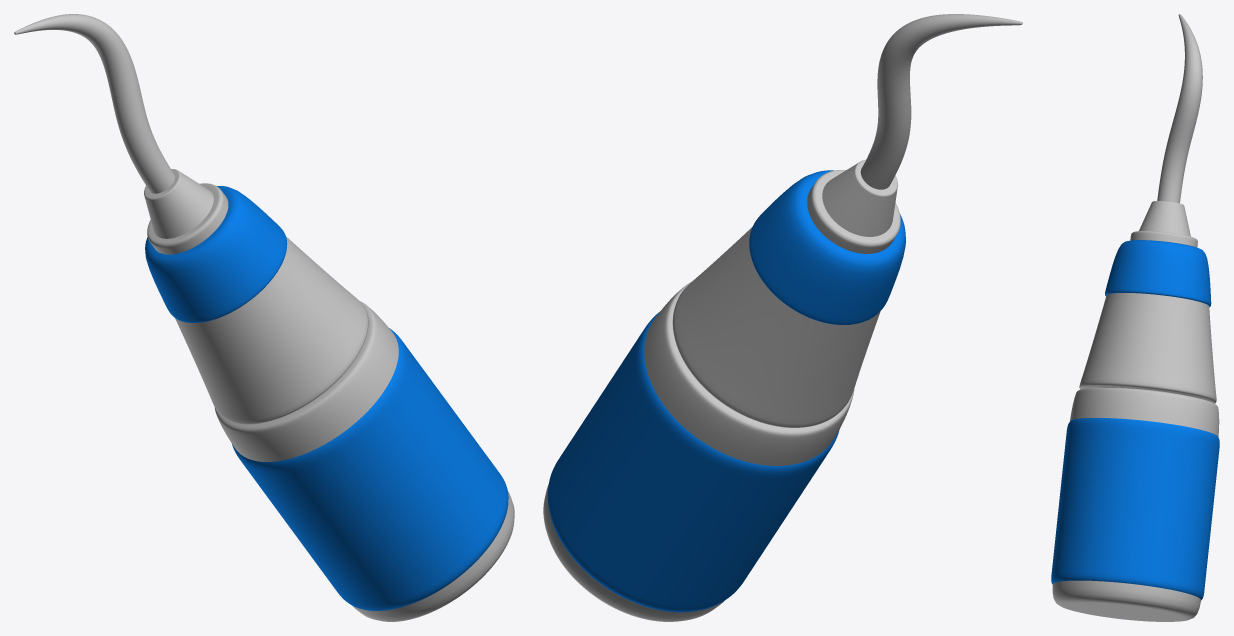
The model's file is Dental Scaler .glb.
The picture shows the model from 3 angles, left to right: view 1: azimuth 30°, elevation 25°; view 2: azimuth 150°, elevation 25°; view 3: azimuth 270°, elevation 25°; orthographic projection. The views are drawn at different scales.
Visible parts, largest first — view 1: Cylinder.015, Cylinder.012, Cylinder.016, NurbsPath.002, Cylinder.014, Cylinder.013; view 2: Cylinder.015, Cylinder.012, Cylinder.016, NurbsPath.002, Cylinder.014, Cylinder.013; view 3: Cylinder.015, Cylinder.012, Cylinder.016, NurbsPath.002, Cylinder.014, Cylinder.013.
Part boxes in pixels (x1,y1,x2,y2): Cylinder.015: (232, 328, 508, 610); Cylinder.012: (175, 236, 514, 621); Cylinder.016: (145, 186, 287, 322); NurbsPath.002: (14, 14, 175, 193); Cylinder.014: (144, 169, 213, 238); Cylinder.013: (147, 183, 228, 254); Cylinder.015: (547, 311, 839, 612); Cylinder.012: (543, 227, 880, 621); Cylinder.016: (749, 170, 905, 324); NurbsPath.002: (860, 14, 1022, 189); Cylinder.014: (822, 159, 897, 236); Cylinder.013: (807, 170, 900, 253); Cylinder.015: (1051, 418, 1219, 600); Cylinder.012: (1052, 293, 1219, 621); Cylinder.016: (1105, 240, 1211, 307); NurbsPath.002: (1157, 14, 1202, 203); Cylinder.014: (1139, 201, 1190, 236); Cylinder.013: (1130, 231, 1197, 247).
Bounding box in the file's own units: 4.2 × 5.65 × 1.77.
